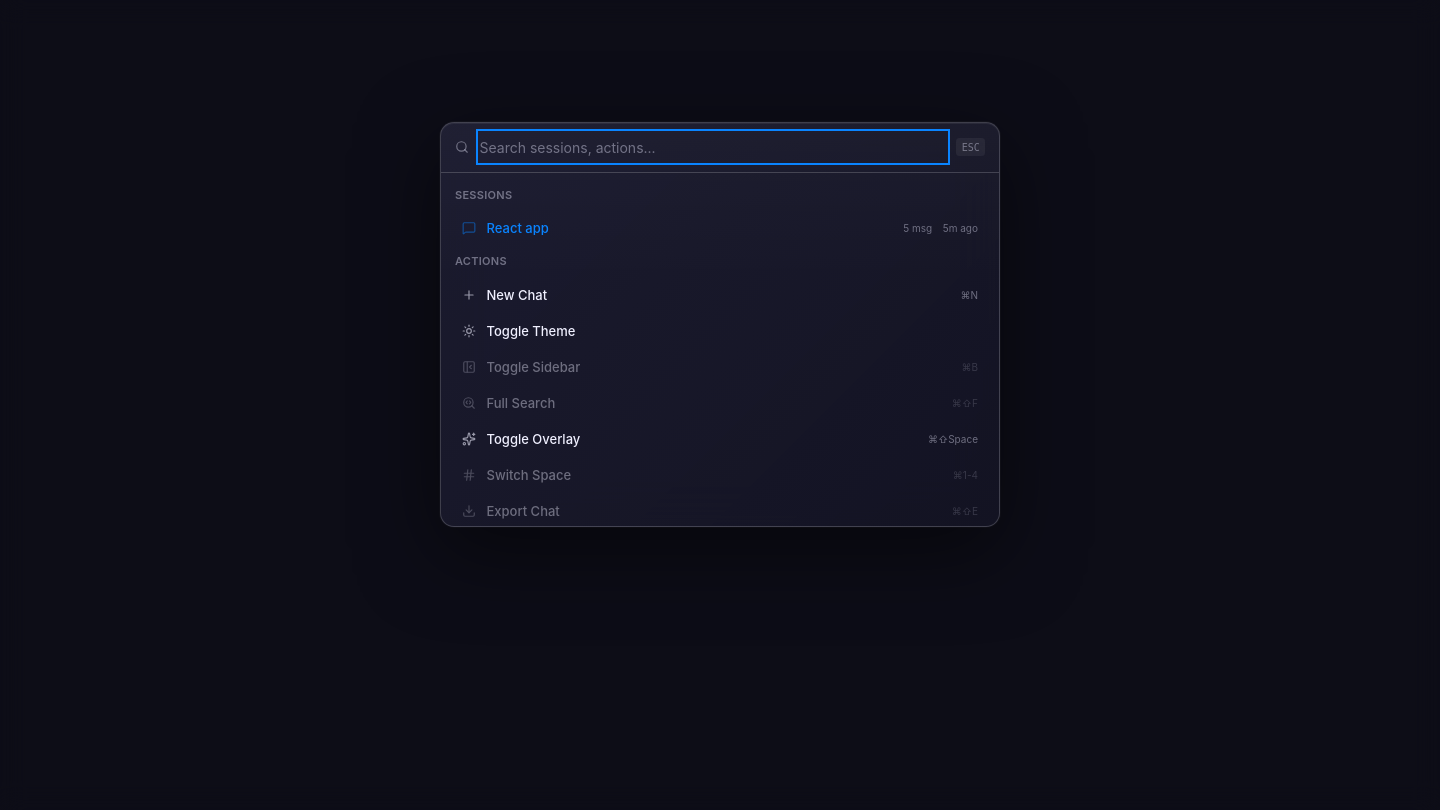
Test: Flow: Command Palette › search filters actions by label (cmdk keeps visible, sessions filtered)
Step 1. Type "New Chat" into the dropdown with placeholder "Search sessions, actions..." → (713, 147), box [480,133,946,161]
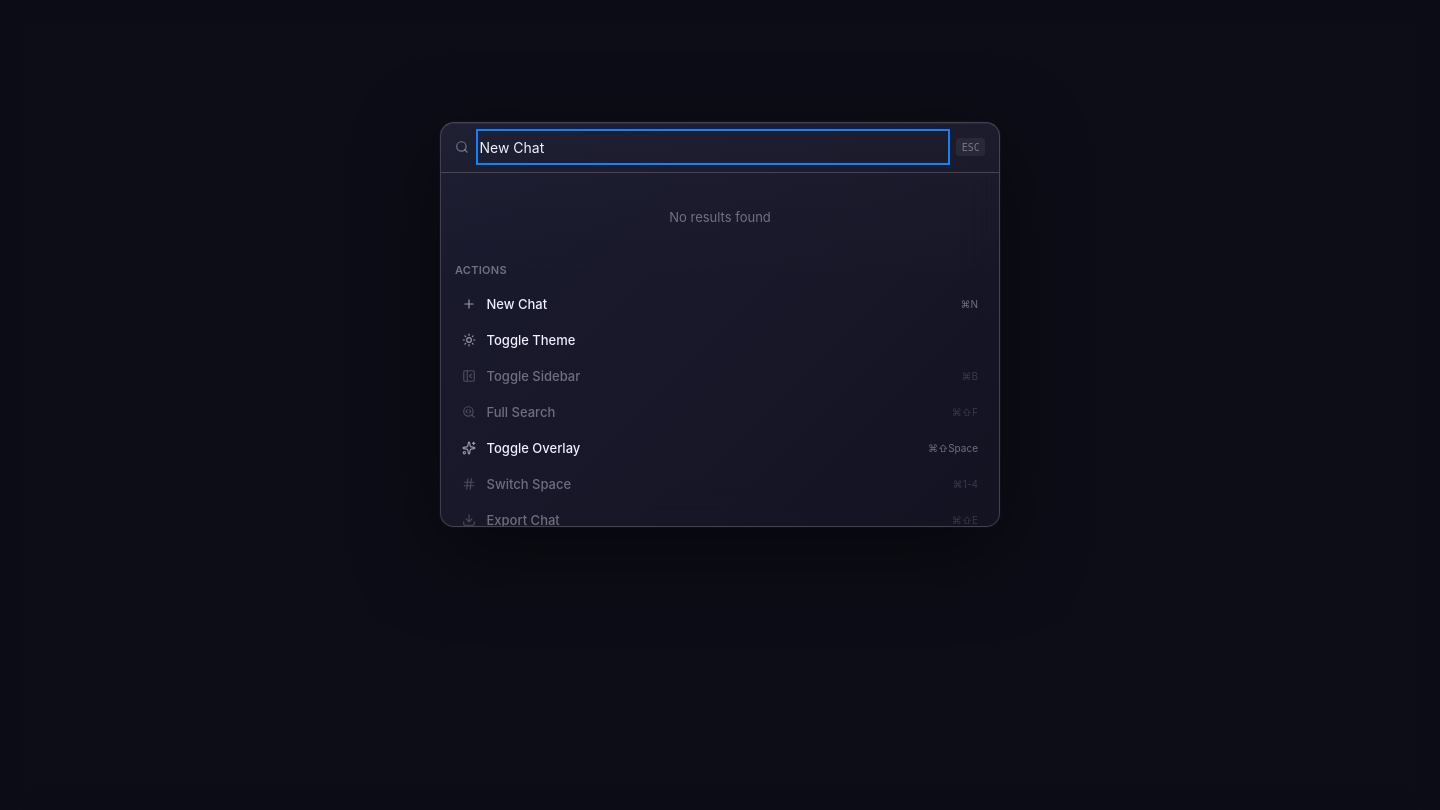
Check: the text "New Chat" is shown, box [486,296,547,312]
Check: the option "React app" is gone
